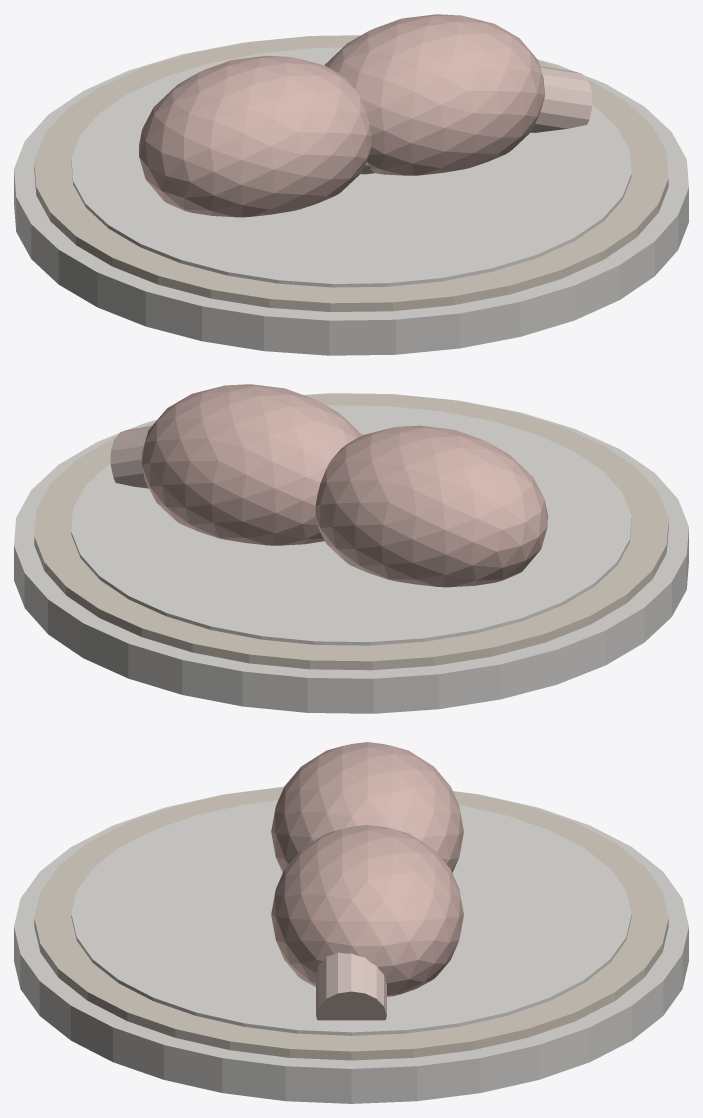
Rendered from chicken.glb.
3 views of the same model, one above another, from view 1: azimuth 30°, elevation 25°; view 2: azimuth 150°, elevation 25°; view 3: azimuth 270°, elevation 25° (orthographic).
Visible parts, largest first — view 1: obj_0002, obj_0000, obj_0001, obj_0003, obj_0005, obj_0006; view 2: obj_0002, obj_0000, obj_0001, obj_0003, obj_0005, obj_0006; view 3: obj_0002, obj_0000, obj_0001, obj_0005, obj_0003, obj_0006.
Boxes of the visible parts, x1,y1,x2,y2 form: obj_0002: (71,47,631,287); obj_0000: (14,42,688,355); obj_0001: (34,35,668,311); obj_0003: (139,55,371,217); obj_0005: (324,14,544,175); obj_0006: (530,66,592,132); obj_0002: (71,405,631,645); obj_0000: (14,400,688,713); obj_0001: (34,393,668,670); obj_0003: (315,425,547,587); obj_0005: (141,384,362,545); obj_0006: (110,426,151,488); obj_0002: (71,800,631,1035); obj_0000: (14,793,688,1103); obj_0001: (34,786,668,1060); obj_0005: (271,825,463,996); obj_0003: (271,742,463,872); obj_0006: (316,952,386,1020).
Size of the model in its own units: 2.1 by 0.55 by 2.1.
